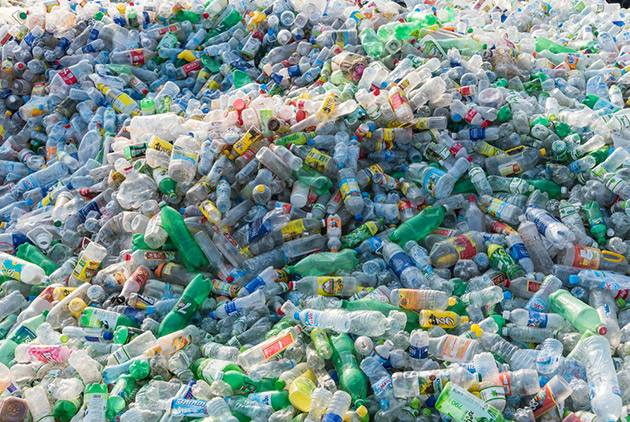plastic: (5, 3, 630, 409)
